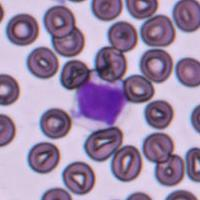M: (74, 80, 128, 126)
